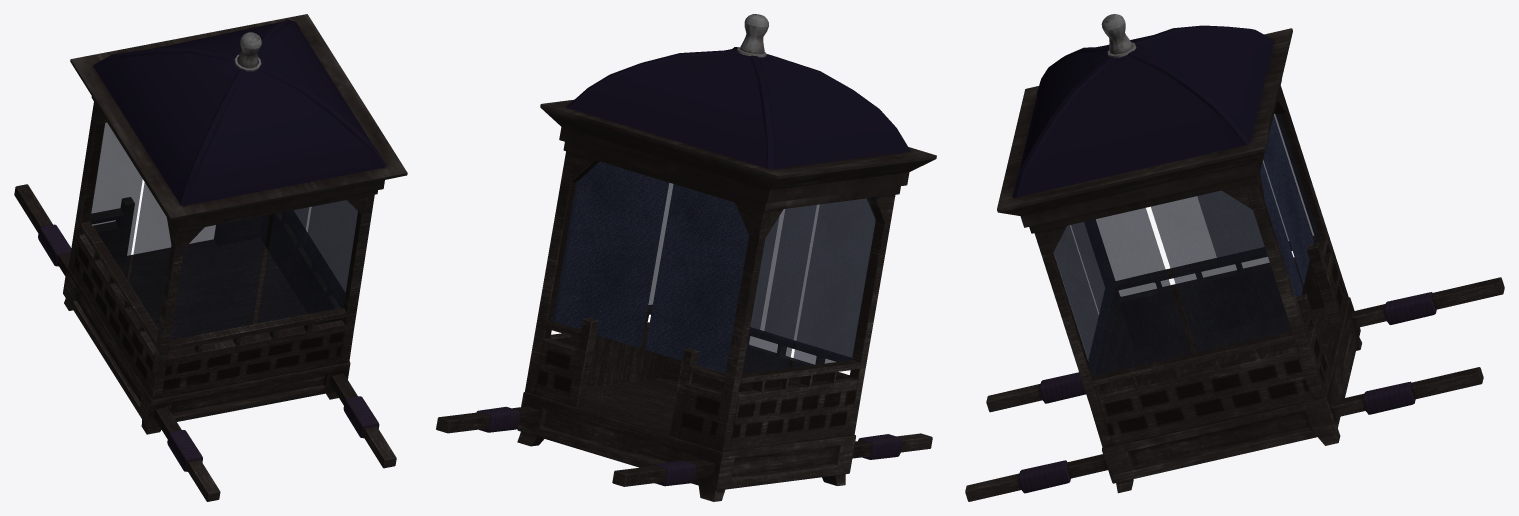
The model's file is Sedan_chair_ani.glb.
3 views of the same model, side by side, from view 1: azimuth 30°, elevation 25°; view 2: azimuth 150°, elevation 25°; view 3: azimuth 270°, elevation 25° (orthographic). The views are drawn at different scales.
Parts seen in each view (by area): view 1: boby_frame, dome, Curtain4, top_platform, Curtain3, BT_platform, Curtain2, Pole, Pole1, rope2, rope.001, rope3 (+1 smaller); view 2: boby_frame, Curtain1, dome, Curtain3, top_platform, Curtain4, BT_platform, Pole, Curtain2, Pole1, top_deco.001, rope2 (+2 smaller); view 3: boby_frame, Curtain2, dome, top_platform, BT_platform, Curtain4, Curtain1, Curtain3, Pole1, Pole, rope.001, rope3 (+3 smaller).
Boxes of the visible parts, x1,y1,x2,y2 form: boby_frame: (68,102,374,399); dome: (93,19,386,206); Curtain4: (170,200,357,340); top_platform: (70,14,407,232); Curtain3: (90,122,171,328); BT_platform: (63,267,350,434); Curtain2: (283,200,358,308); Pole: (14,184,220,501); Pole1: (330,373,396,468); rope2: (167,430,202,471); rope.001: (343,396,379,438); rope3: (38,224,71,266); boby_frame: (525,151,895,451); Curtain1: (554,161,748,373); dome: (566,47,910,169); Curtain3: (742,198,875,373); top_platform: (540,99,936,211); Curtain4: (750,198,875,360); BT_platform: (517,392,855,501); Pole: (612,433,932,486); Curtain2: (552,180,673,321); Pole1: (436,406,538,433); top_deco.001: (740,14,768,54); rope2: (858,434,902,459); boby_frame: (1034,86,1348,448); Curtain2: (1054,190,1291,375); dome: (1012,25,1274,197); top_platform: (997,28,1292,233); BT_platform: (1102,297,1361,493); Curtain4: (1053,220,1114,376); Curtain1: (1260,115,1313,296); Curtain3: (1197,113,1319,262); Pole1: (965,367,1483,501); Pole: (986,277,1504,412); rope.001: (1018,460,1070,493); rope3: (1384,292,1436,324).
Size of the model in its own units: 0.00163 by 0.00256 by 0.00281.
2 materials, 2 textured.
